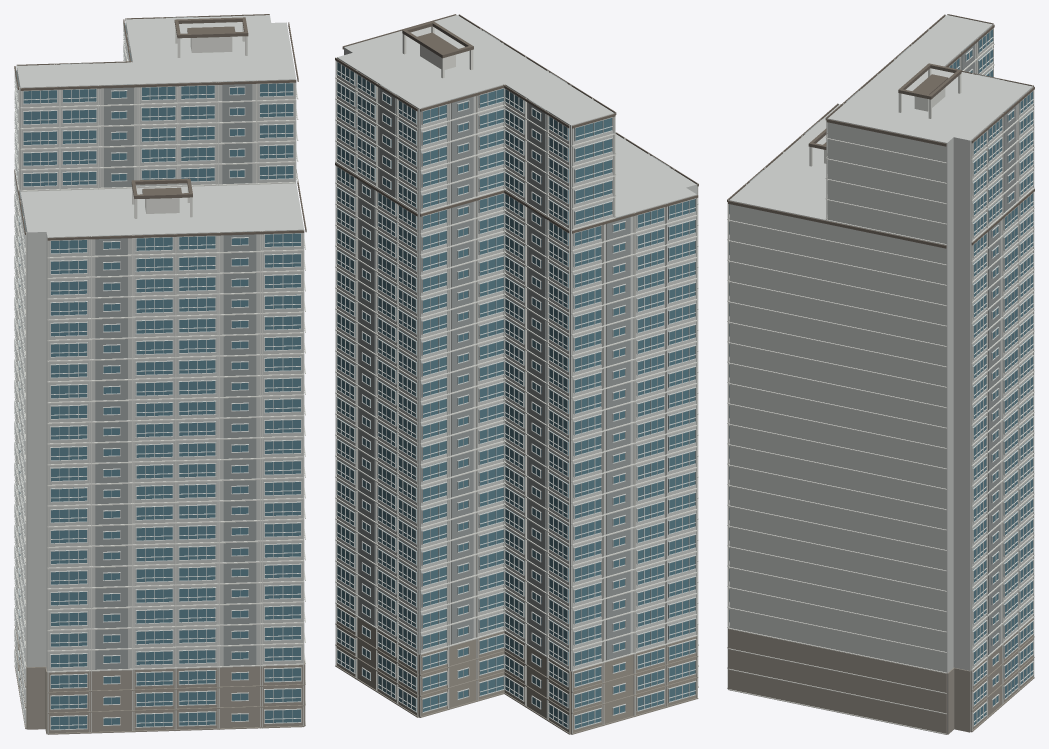
File: bespoke-banpo-xi-122.glb
3 views of the same model, side by side, from view 1: azimuth 30°, elevation 25°; view 2: azimuth 150°, elevation 25°; view 3: azimuth 270°, elevation 25° (orthographic). The views are drawn at different scales.
Visible parts, largest first — view 1: editable_BX122_pale_silver_limestone, editable_BX122_blue_grey_broad_glazing, editable_BX122_white_window_frames, editable_BX122_ivory_course_bands, editable_BX122_grey_service_core, editable_BX122_warm_ground_stone, editable_BX122_dark_coping; view 2: editable_BX122_blue_grey_broad_glazing, editable_BX122_pale_silver_limestone, editable_BX122_white_window_frames, editable_BX122_ivory_course_bands, editable_BX122_grey_service_core, editable_BX122_warm_ground_stone, editable_BX122_dark_coping; view 3: editable_BX122_pale_silver_limestone, editable_BX122_ivory_course_bands, editable_BX122_white_window_frames, editable_BX122_warm_ground_stone, editable_BX122_blue_grey_broad_glazing, editable_BX122_grey_service_core, editable_BX122_dark_coping.
Part boxes in pixels (left/top/right/bottom): editable_BX122_pale_silver_limestone: left=16, top=15, right=304, bottom=733; editable_BX122_blue_grey_broad_glazing: left=16, top=23, right=300, bottom=729; editable_BX122_white_window_frames: left=14, top=24, right=301, bottom=730; editable_BX122_ivory_course_bands: left=14, top=14, right=305, bottom=734; editable_BX122_grey_service_core: left=18, top=17, right=256, bottom=669; editable_BX122_warm_ground_stone: left=14, top=623, right=305, bottom=734; editable_BX122_dark_coping: left=14, top=14, right=306, bottom=240; editable_BX122_blue_grey_broad_glazing: left=337, top=62, right=695, bottom=728; editable_BX122_pale_silver_limestone: left=337, top=15, right=696, bottom=717; editable_BX122_white_window_frames: left=336, top=61, right=696, bottom=729; editable_BX122_ivory_course_bands: left=335, top=14, right=698, bottom=734; editable_BX122_grey_service_core: left=359, top=30, right=670, bottom=660; editable_BX122_warm_ground_stone: left=335, top=604, right=698, bottom=734; editable_BX122_dark_coping: left=335, top=14, right=698, bottom=233; editable_BX122_pale_silver_limestone: left=729, top=15, right=1032, bottom=734; editable_BX122_ivory_course_bands: left=727, top=14, right=1034, bottom=734; editable_BX122_white_window_frames: left=729, top=28, right=1033, bottom=726; editable_BX122_warm_ground_stone: left=727, top=618, right=1034, bottom=734; editable_BX122_blue_grey_broad_glazing: left=729, top=29, right=1032, bottom=724; editable_BX122_grey_service_core: left=749, top=40, right=1016, bottom=654; editable_BX122_dark_coping: left=727, top=14, right=1034, bottom=248.
Size of the model in its own units: 41.96 by 81.3 by 36.94.
